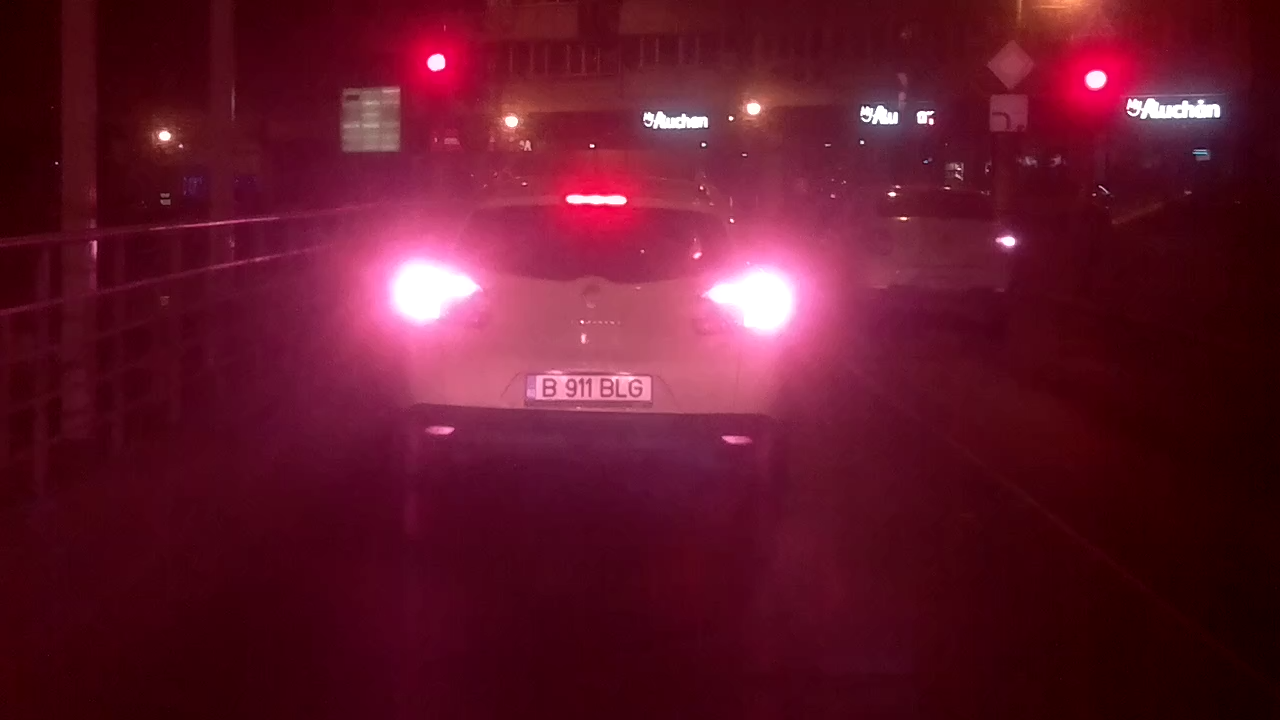license-plate: (521, 367, 658, 407)
